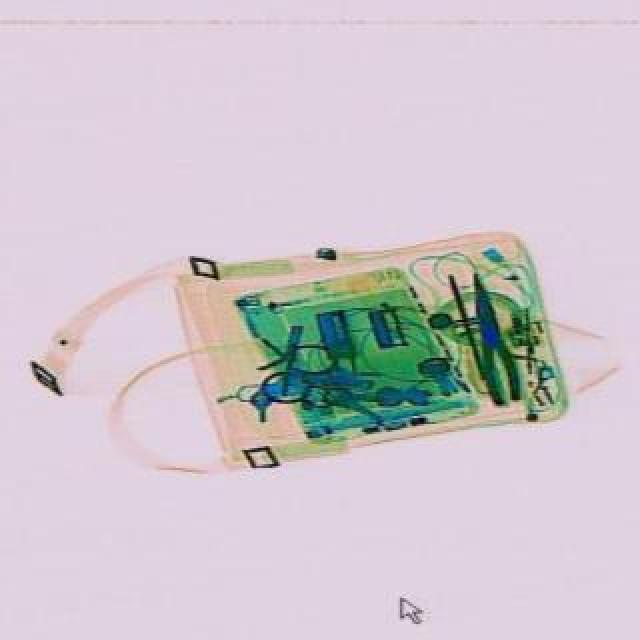wrench: (458, 266, 522, 406)
